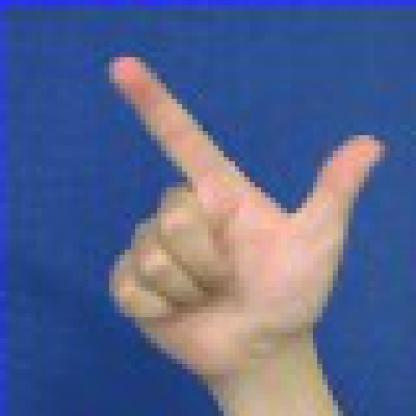seven: (73, 36, 411, 411)
